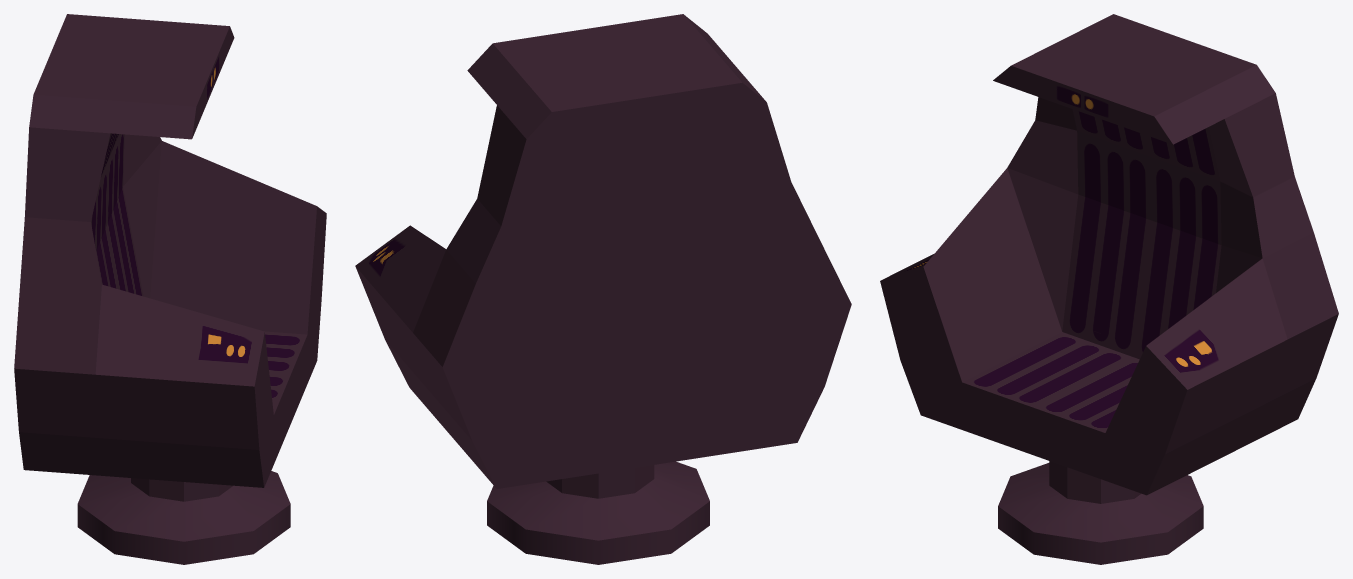
The model's file is PRSW_Trono.FBX.
3 views of the same model, side by side, from view 1: azimuth 30°, elevation 25°; view 2: azimuth 150°, elevation 25°; view 3: azimuth 270°, elevation 25° (orthographic). The views are drawn at different scales.
Parts seen in each view (by area): view 1: PRSW_Trono_01, PRSW_Trono; view 2: PRSW_Trono_01, PRSW_Trono; view 3: PRSW_Trono_01, PRSW_Trono.
Part boxes in pixels (<box>): PRSW_Trono_01: <box>14,14,326,487</box>; PRSW_Trono: <box>77,471,290,564</box>; PRSW_Trono_01: <box>355,14,851,488</box>; PRSW_Trono: <box>487,461,709,564</box>; PRSW_Trono_01: <box>880,14,1338,495</box>; PRSW_Trono: <box>998,461,1203,564</box>.
Bounding box in the file's own units: 1.65 × 1.82 × 1.73.
